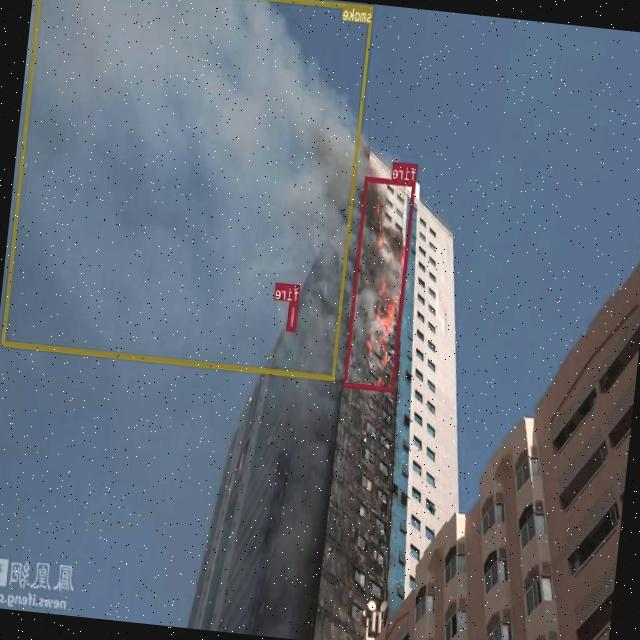fire: (344, 176, 416, 390), (288, 301, 298, 331)
smoke: (2, 0, 373, 379)
